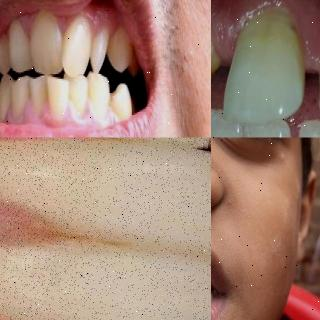Gum Swelling: (0, 137, 84, 287)
maligned: (27, 11, 67, 76), (60, 17, 97, 73), (4, 22, 34, 75), (88, 24, 116, 73), (44, 73, 72, 121), (63, 76, 89, 118)
stains: (211, 20, 225, 98)
